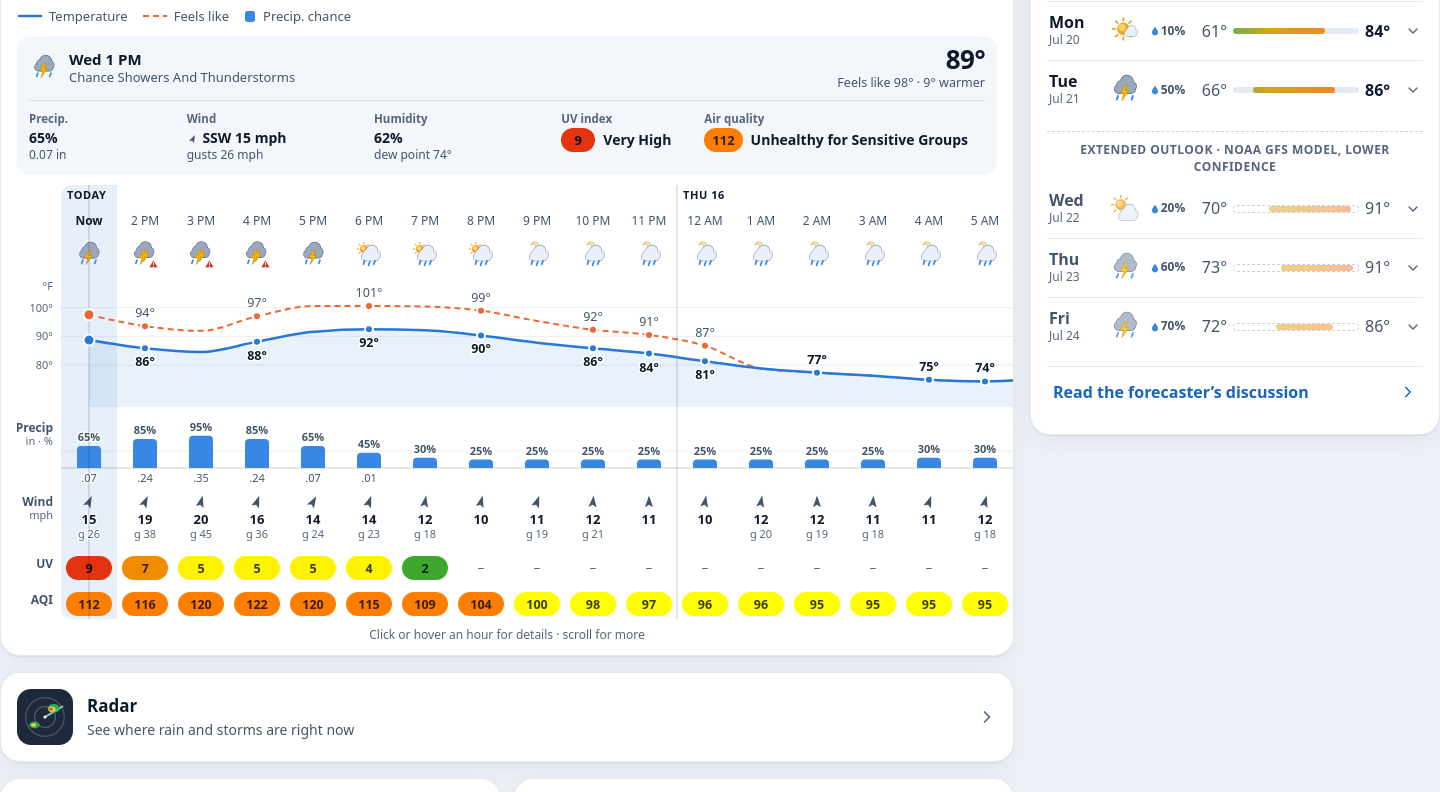
Test: forecaster discussion › offers a retry when the discussion cannot be loaded
(page scrolled)
Click the button "Read the forecaster’s discussion" at {"x": 1235, "y": 392}, box x1=1047 y1=366 x2=1423 y2=418
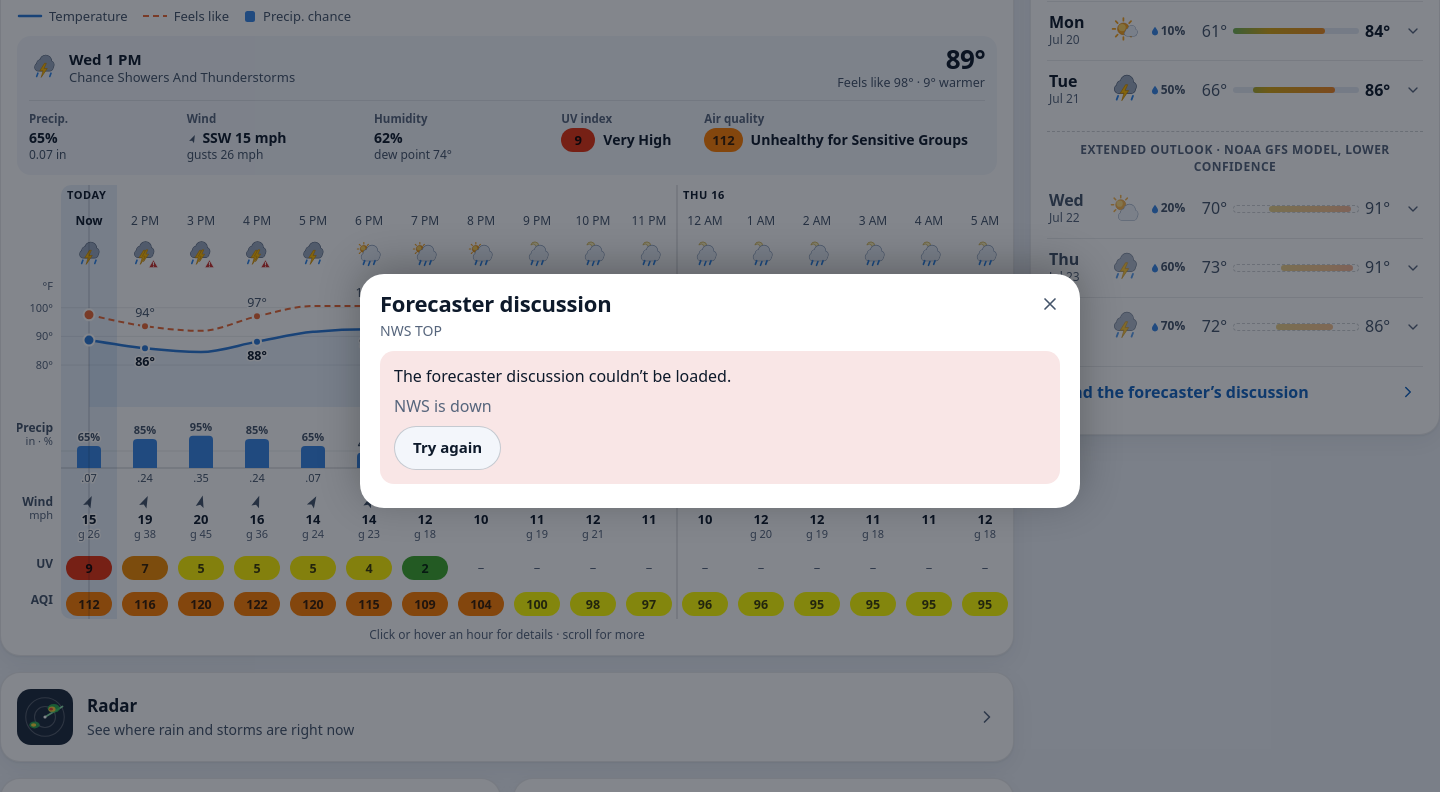
Click the button "Try again" at {"x": 448, "y": 448}, box x1=394 y1=426 x2=501 y2=470
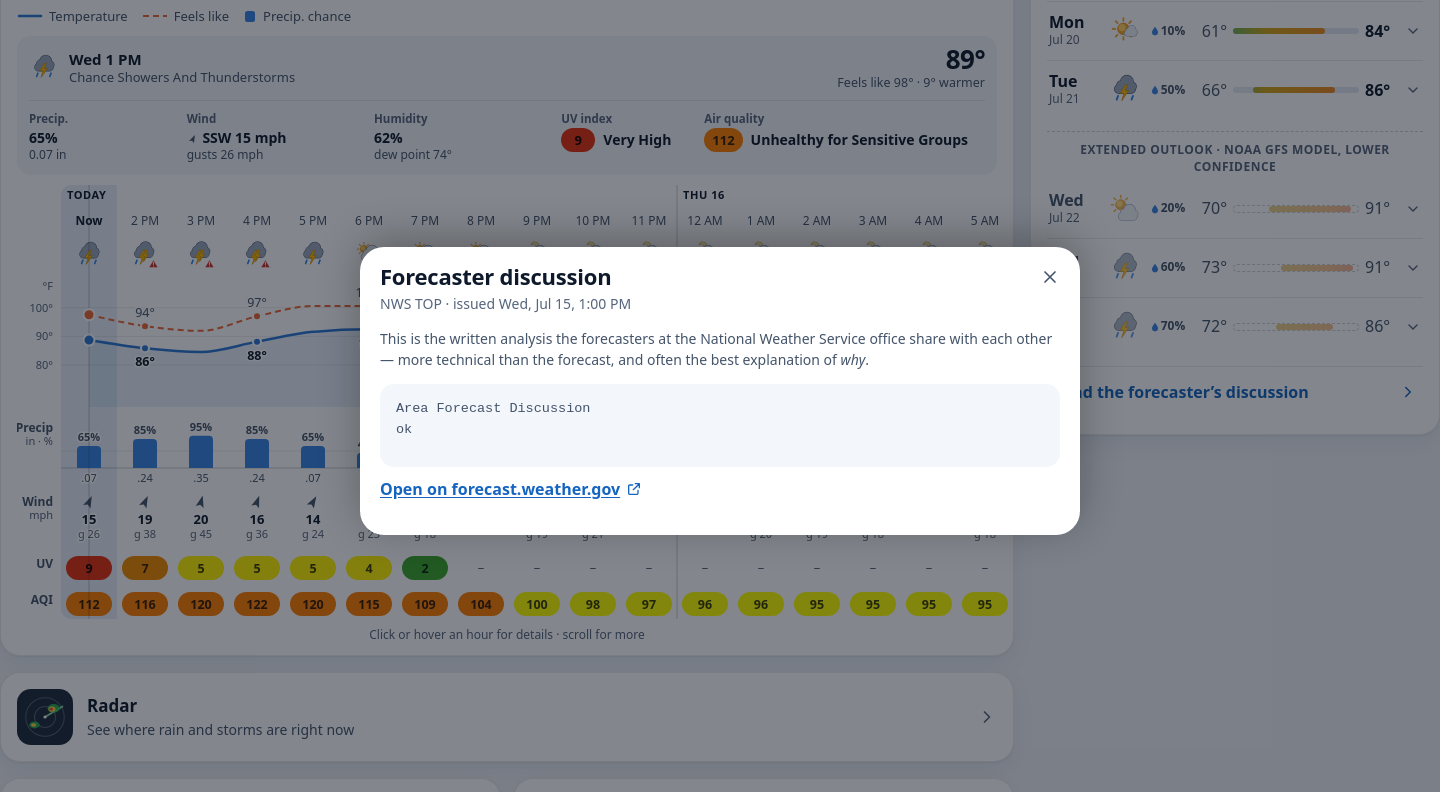
Now the element with test id "afd-text" is shown, box x1=380 y1=384 x2=1060 y2=467
